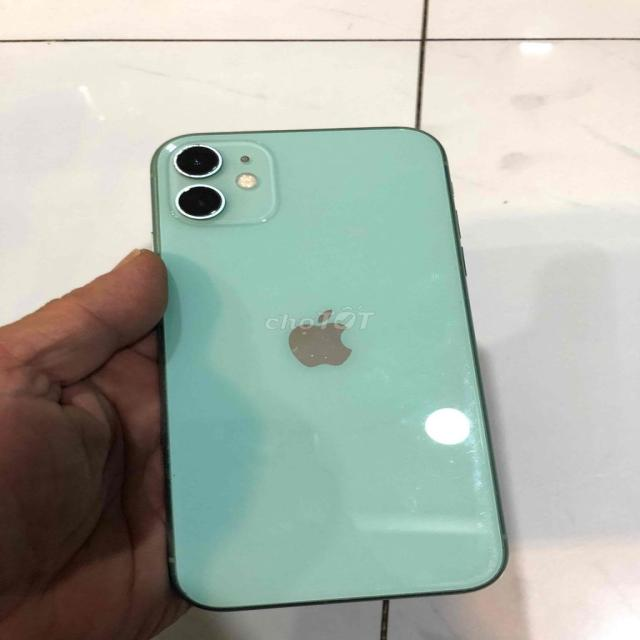gen_11: (152, 128, 505, 610)
scratch: (425, 366, 513, 561), (278, 318, 351, 378), (282, 421, 343, 459), (167, 208, 194, 233), (170, 155, 192, 183), (202, 181, 230, 200), (175, 137, 205, 152), (200, 164, 221, 174)
